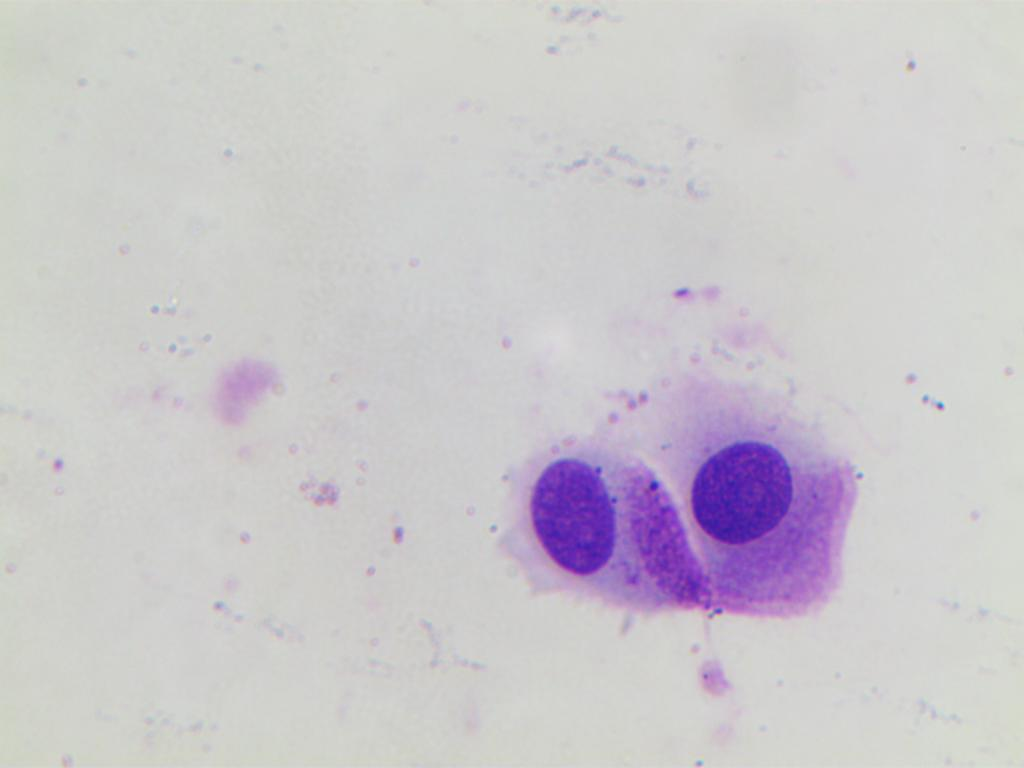epithelial: (690, 424, 803, 549), (521, 441, 617, 577)
